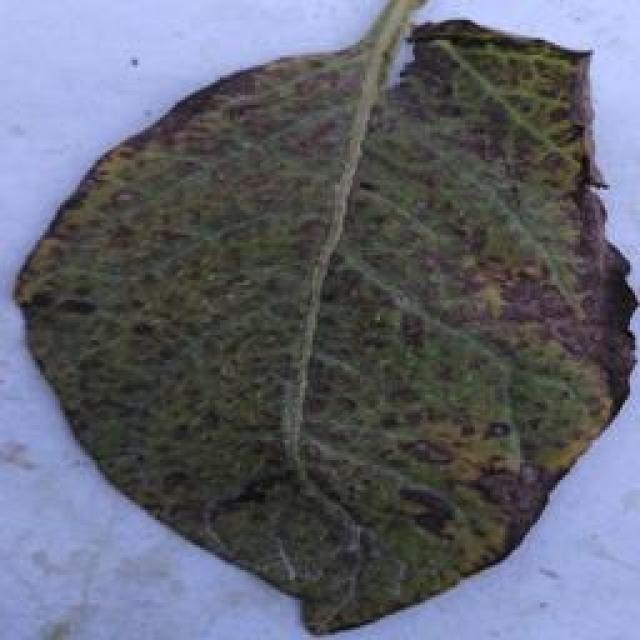Potato_Early_Blight: (7, 8, 638, 633)
